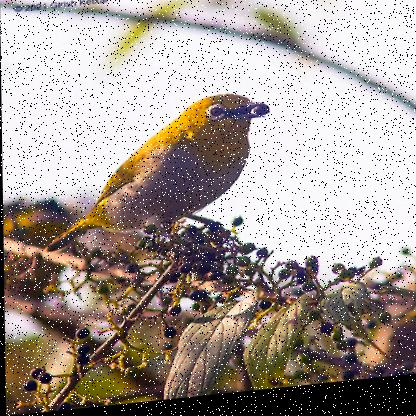Burung: (40, 96, 265, 253)
